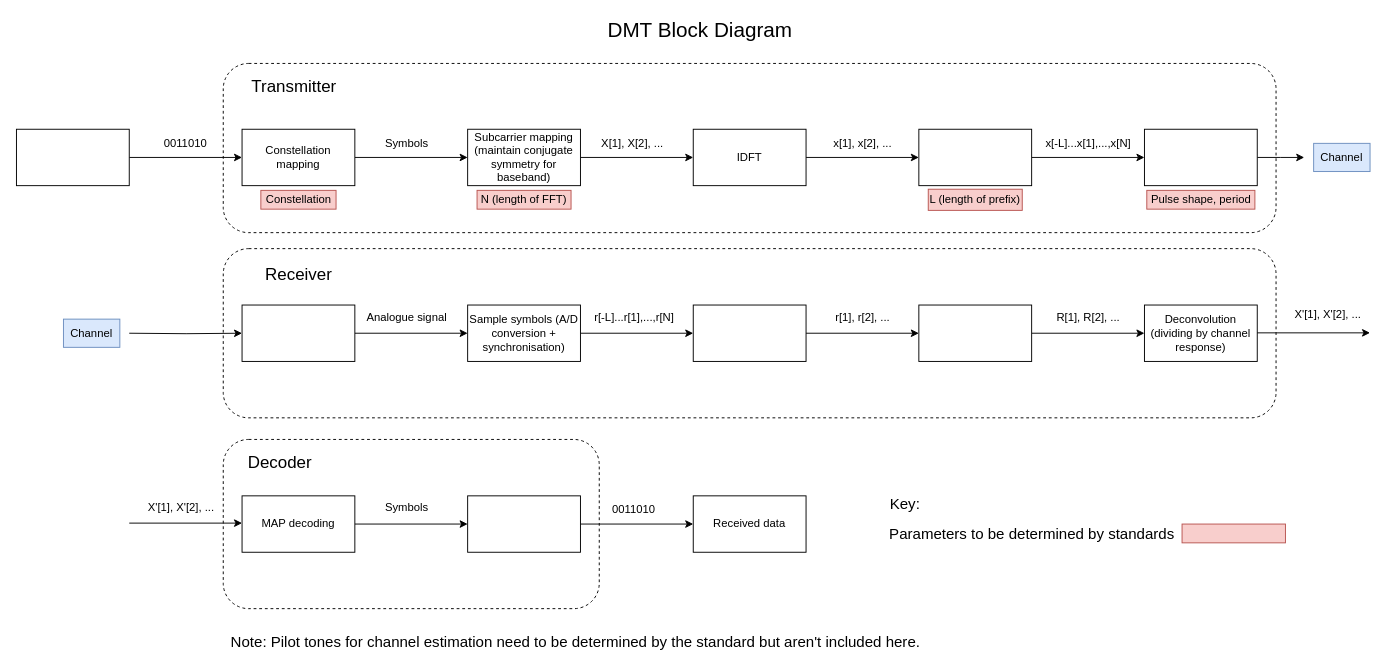
The diagram is 1394 pixels wide and 671 high, and some of its shapes have lost their labels. The shapes that lost their labels are listed below. From the top down, each one's centre as x and y in pixels, then its label:
At [72,157]: "Source data".
At [975,157]: "Add guard prefix".
At [1200,157]: "D/A conversion (multiply by pulse)".
At [298,332]: "Convolve with matched filter".
At [749,332]: "Remove guard prefix".
At [975,332]: "FFT".
At [523,523]: "Constellation mapping (symbols to bits)".
